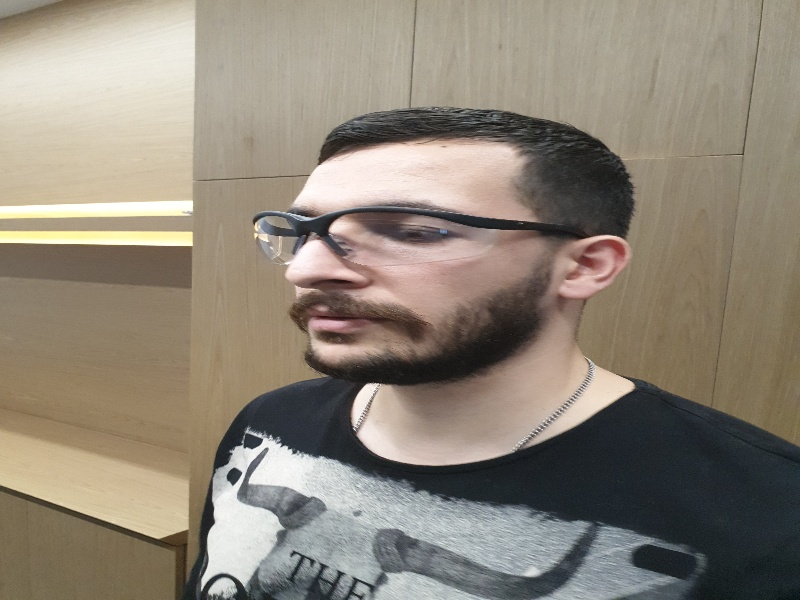Gozluk: (248, 207, 597, 275)
